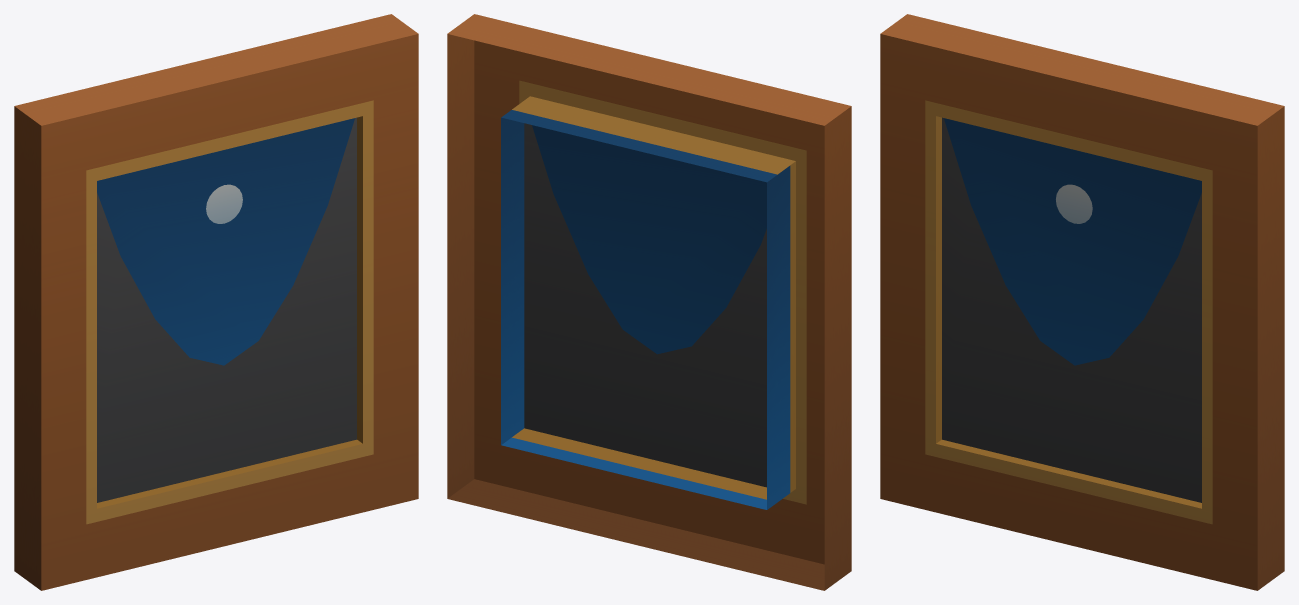
Rendered from PaintingA.FBX.
3 views of the same model, side by side, from view 1: azimuth 30°, elevation 25°; view 2: azimuth 150°, elevation 25°; view 3: azimuth 330°, elevation 25° (orthographic).
Visible parts, largest first — view 1: Painting01; view 2: Painting01; view 3: Painting01.
Boxes of the visible parts, <box> form: Painting01: <box>14,14,418,590</box>; Painting01: <box>447,14,851,590</box>; Painting01: <box>880,14,1284,590</box>.
Size of the model in its own units: 0.733 by 0.8635 by 0.0975.
